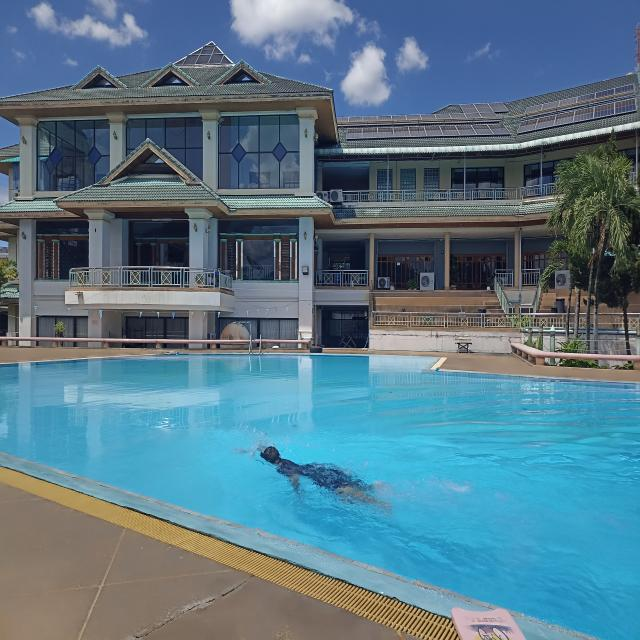Swimming: (244, 424, 386, 510)
